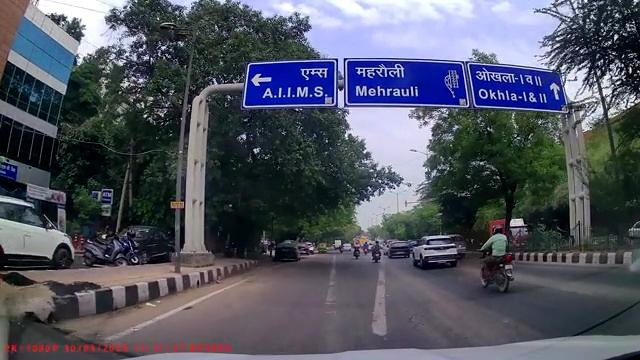motorcycle_with_helmet: (478, 224, 515, 294)
